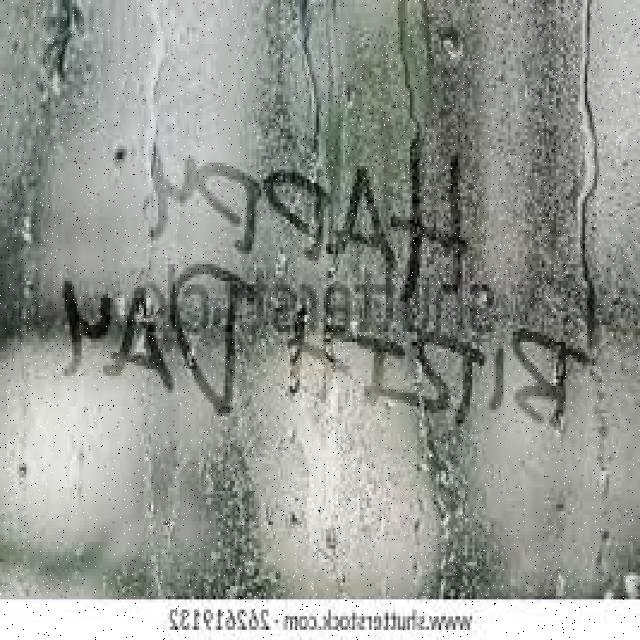raindrop: (434, 16, 472, 68), (462, 274, 498, 316), (334, 79, 360, 115)
